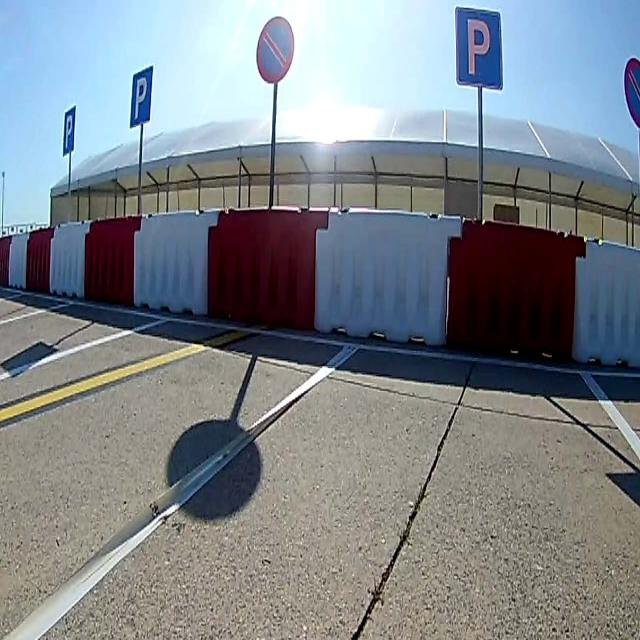park: (458, 7, 502, 88), (132, 66, 151, 125), (64, 107, 74, 152)
parkyasak: (257, 18, 295, 81)
